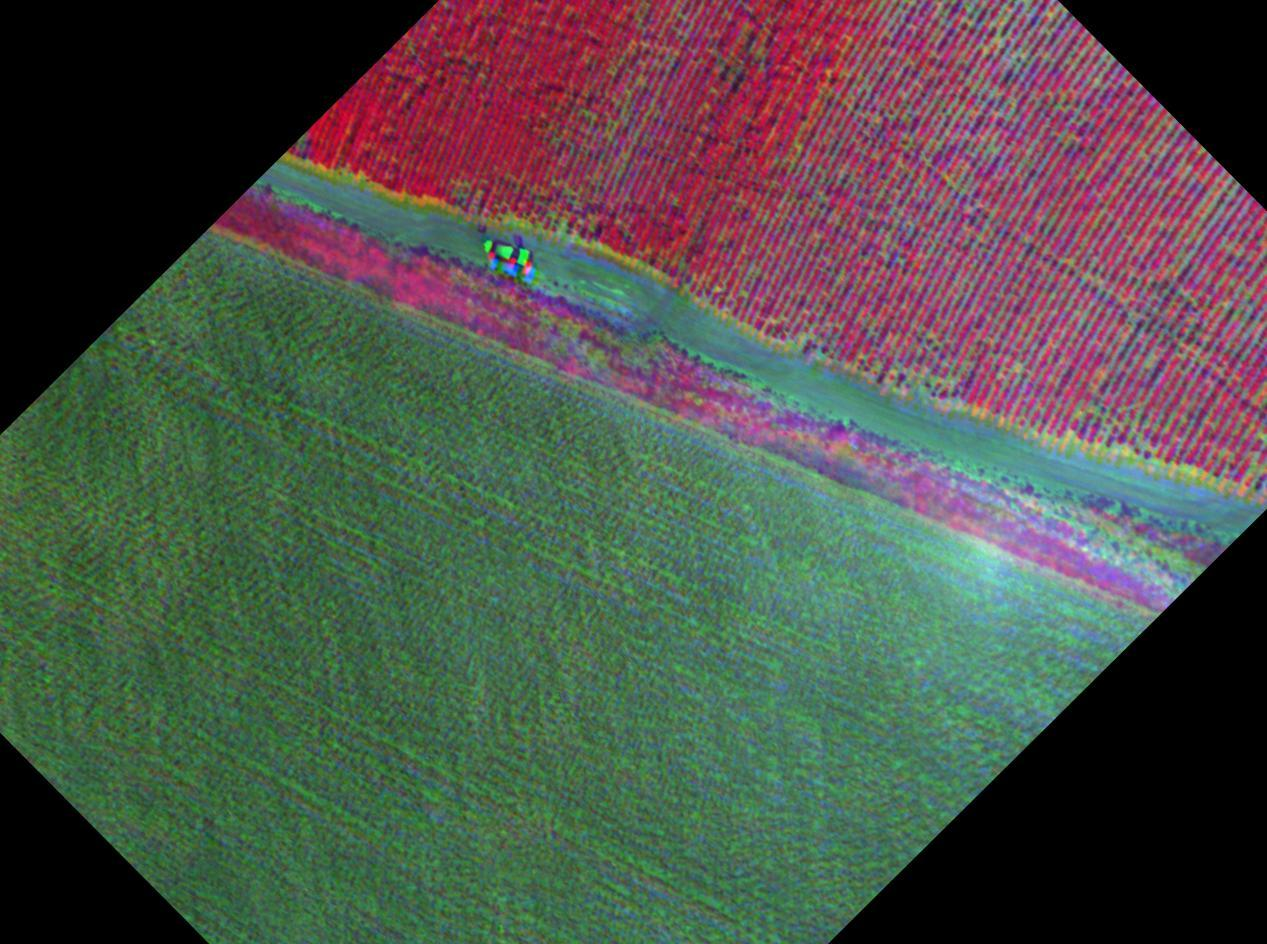dc: (788, 308, 970, 406), (1043, 370, 1174, 479), (1026, 25, 1117, 151), (1178, 178, 1267, 285), (916, 5, 1012, 71), (848, 130, 943, 196)
